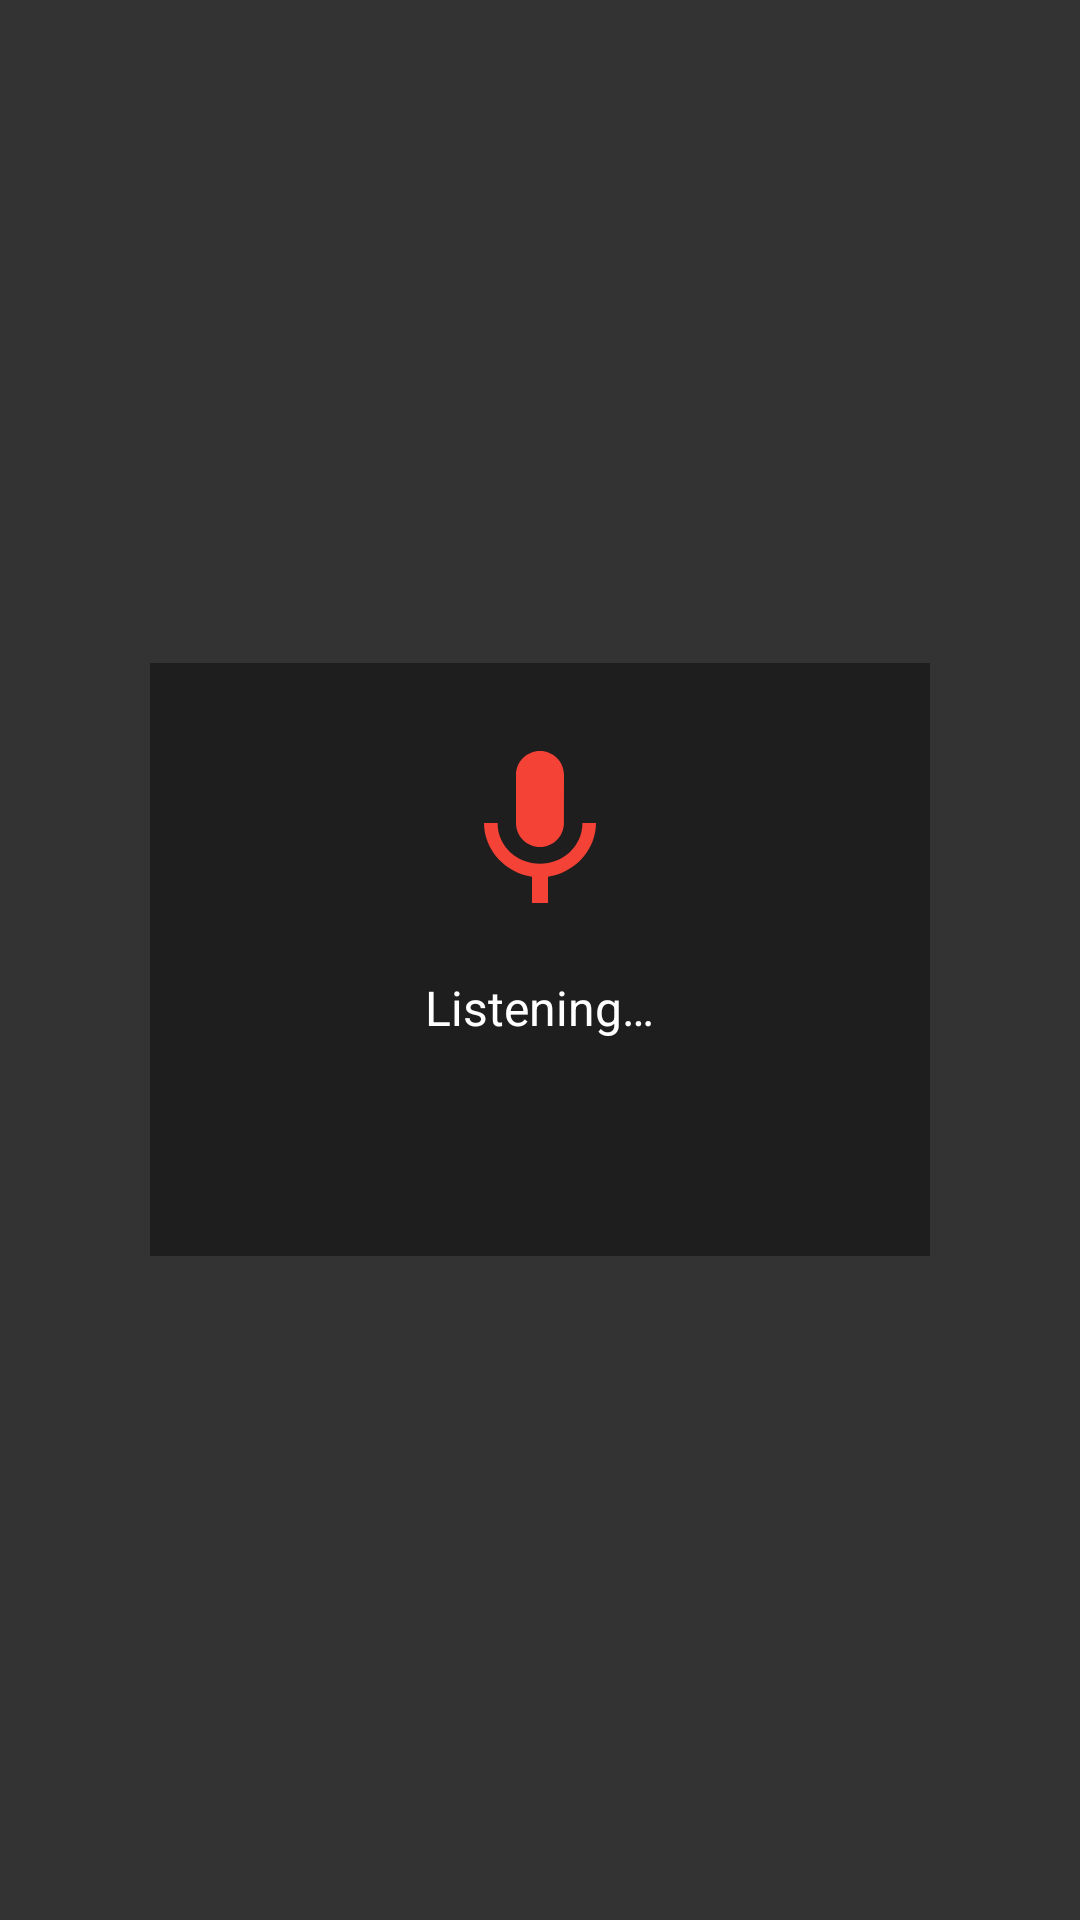

Icon click points for this 1080w x 1920h phone screenshot, format (x=x, y=y):
mic: (x=540, y=827)
